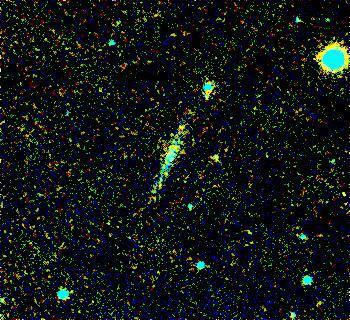star: (163, 113, 193, 143)
